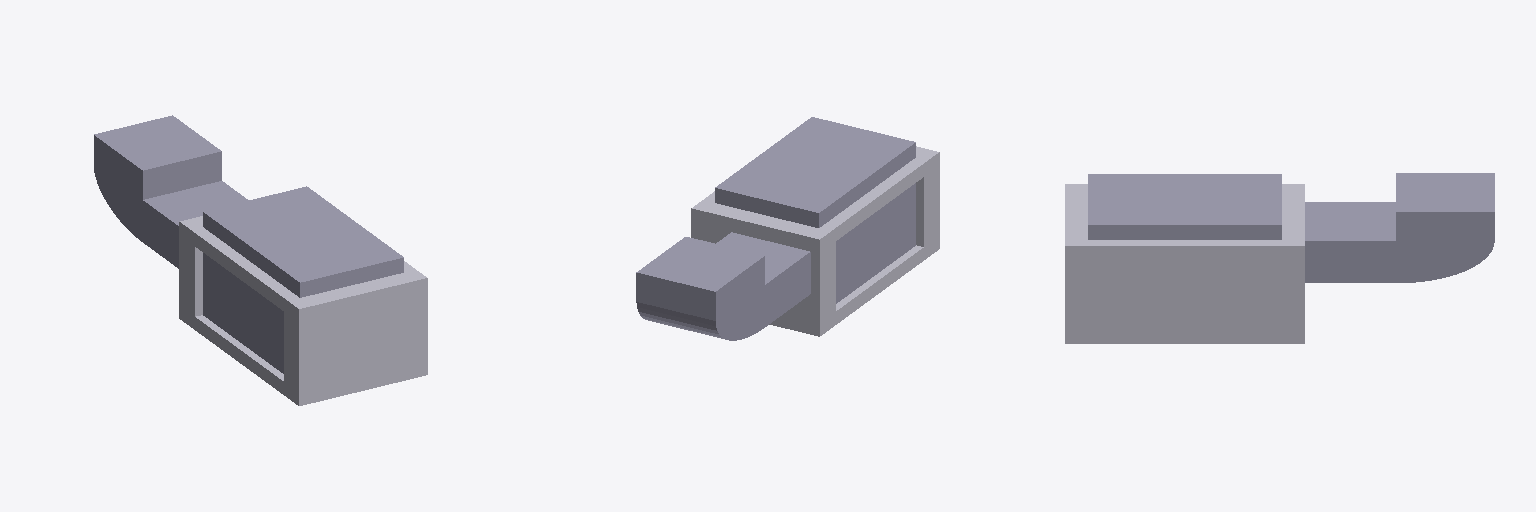
Rendered from ceilingVent.model.obj.
3 renders of one model, left to right at view 1: azimuth 30°, elevation 25°; view 2: azimuth 150°, elevation 25°; view 3: azimuth 270°, elevation 25°, orthographic.
Size of the model in its own units: 0.442 by 0.37 by 1.28.